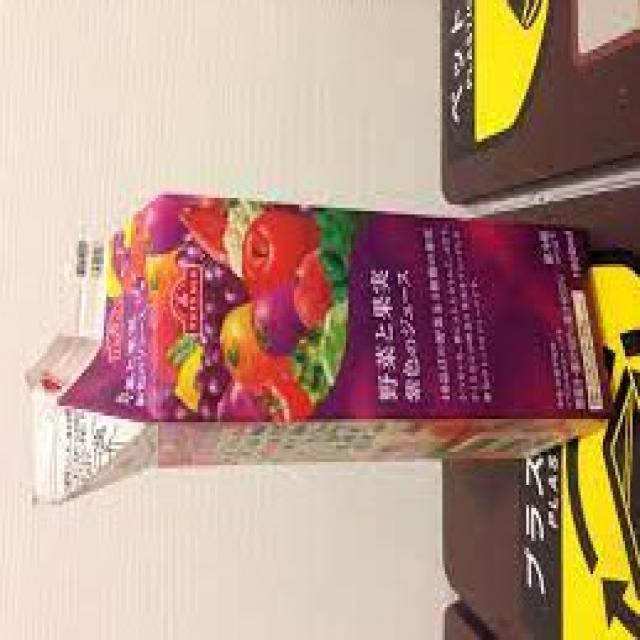non_white_jug: (31, 189, 610, 495)
